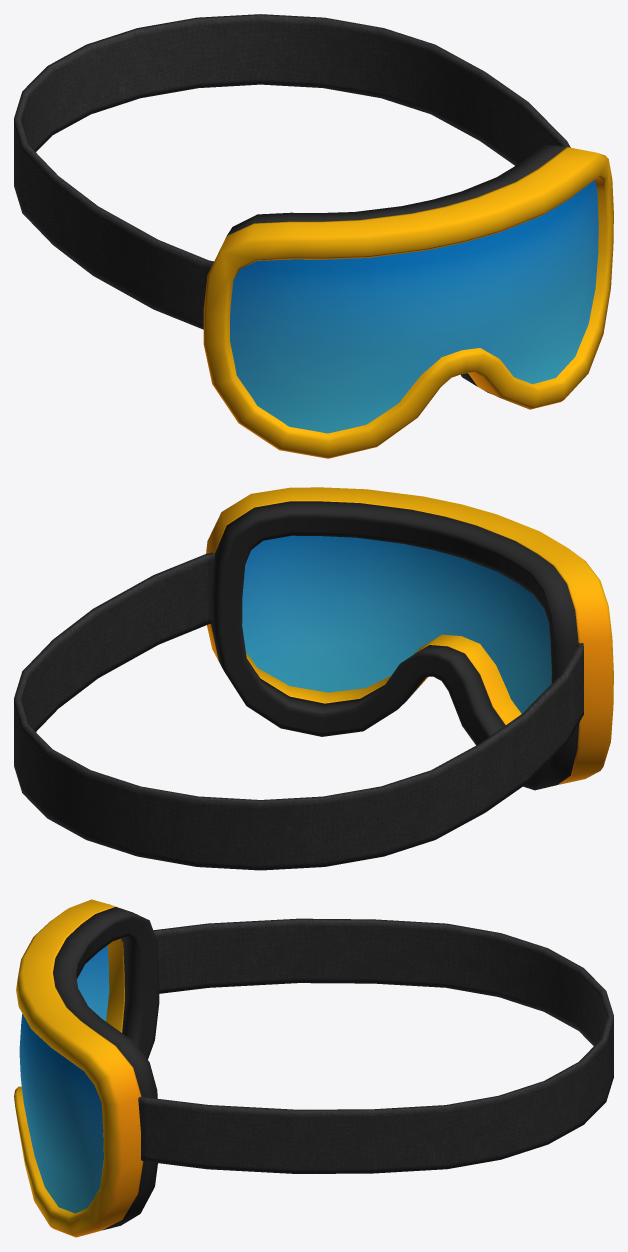
File: Ski Goggles.fbx
The picture shows the model from 3 angles, top to bottom: view 1: azimuth 30°, elevation 25°; view 2: azimuth 150°, elevation 25°; view 3: azimuth 270°, elevation 25°; orthographic projection. The views are drawn at different scales.
Visible parts, largest first — view 1: Ski_Goggles; view 2: Ski_Goggles; view 3: Ski_Goggles.
Boxes of the visible parts, x1=… form: Ski_Goggles: x1=14, y1=14, x2=613, y2=458; Ski_Goggles: x1=14, y1=487, x2=613, y2=870; Ski_Goggles: x1=14, y1=899, x2=613, y2=1237.
Bounding box in the file's own units: 7.79 × 3.83 × 10.2.
